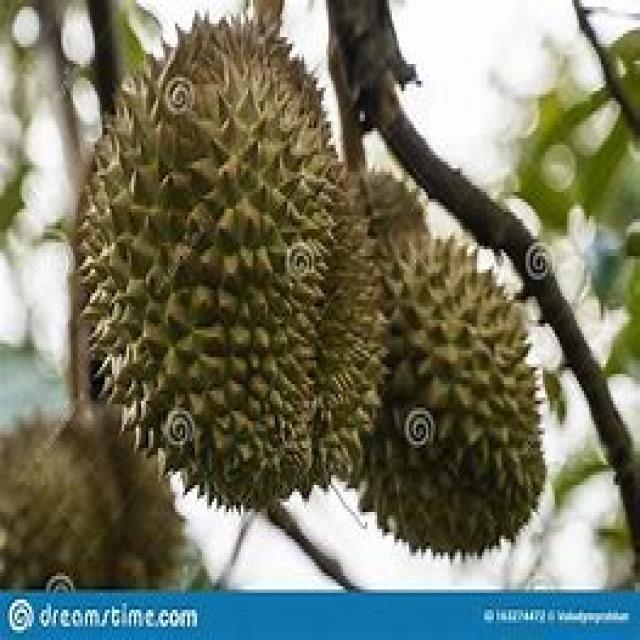mature: (79, 5, 382, 508)
